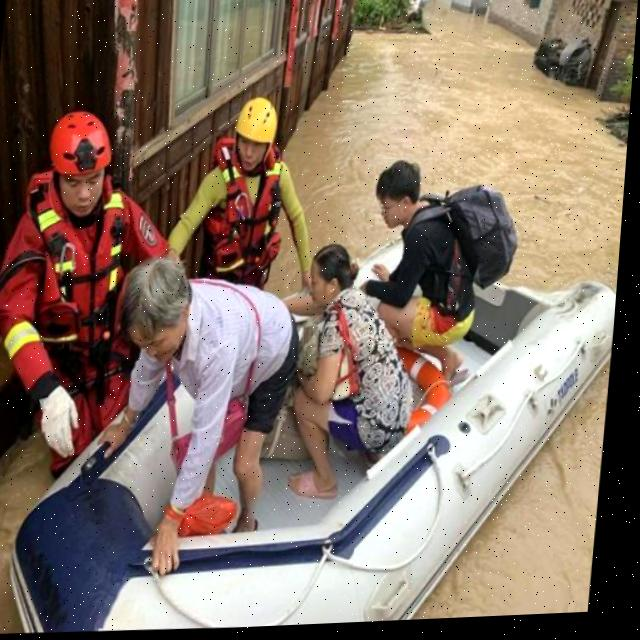civilian: (81, 245, 310, 577), (237, 222, 437, 511), (310, 150, 515, 399)
rescuer: (0, 100, 203, 476), (160, 88, 336, 321)
